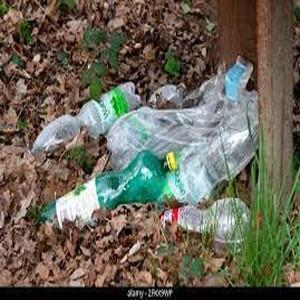Plastic: (39, 149, 177, 234), (164, 198, 255, 244), (79, 80, 140, 137)
